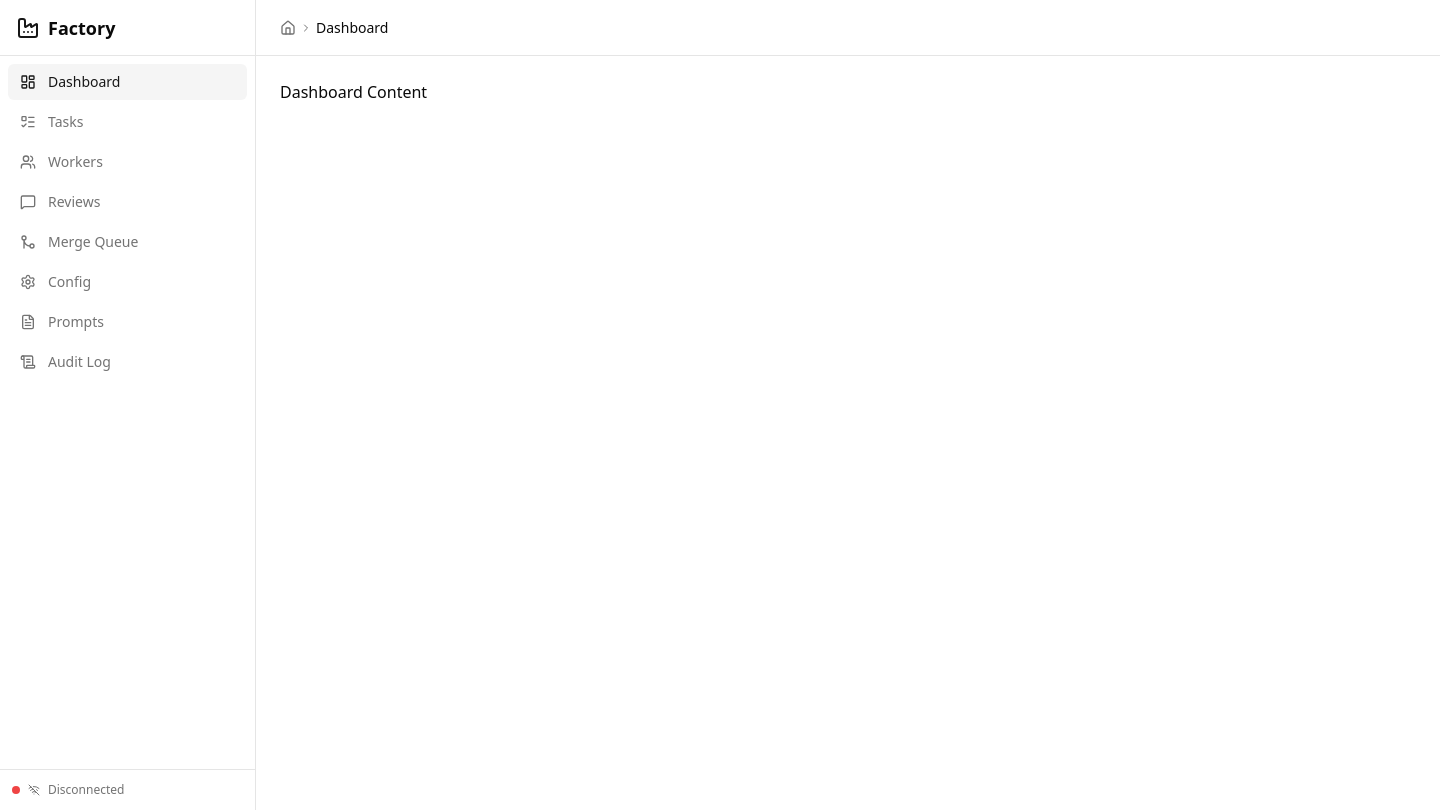
AppLayout › navigates to different pages via sidebar links
The width and height of the screenshot is (1440, 810).
Click the link "Tasks" at (52, 122), box [20,112,83,131]
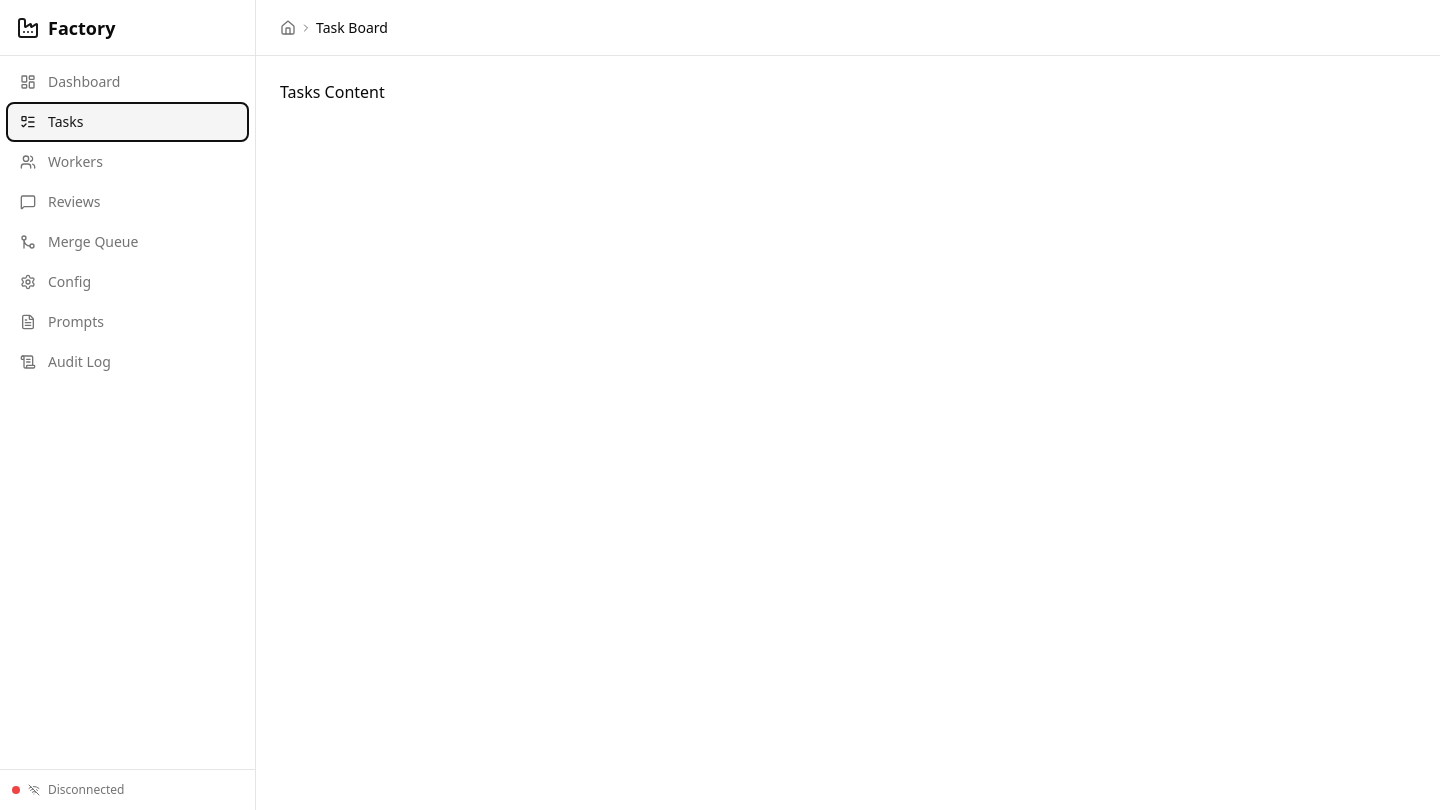
Check: the text "Tasks Content" is shown, box [280,81,385,103]
